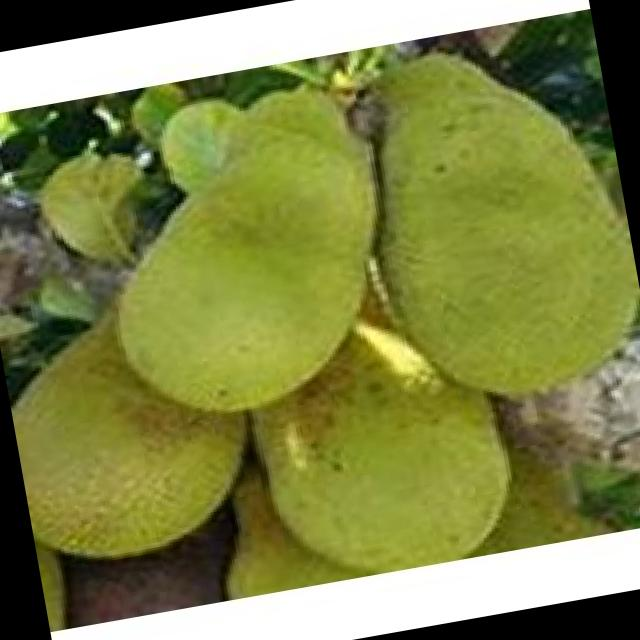Fruit: (17, 111, 444, 468), (0, 270, 292, 596)
